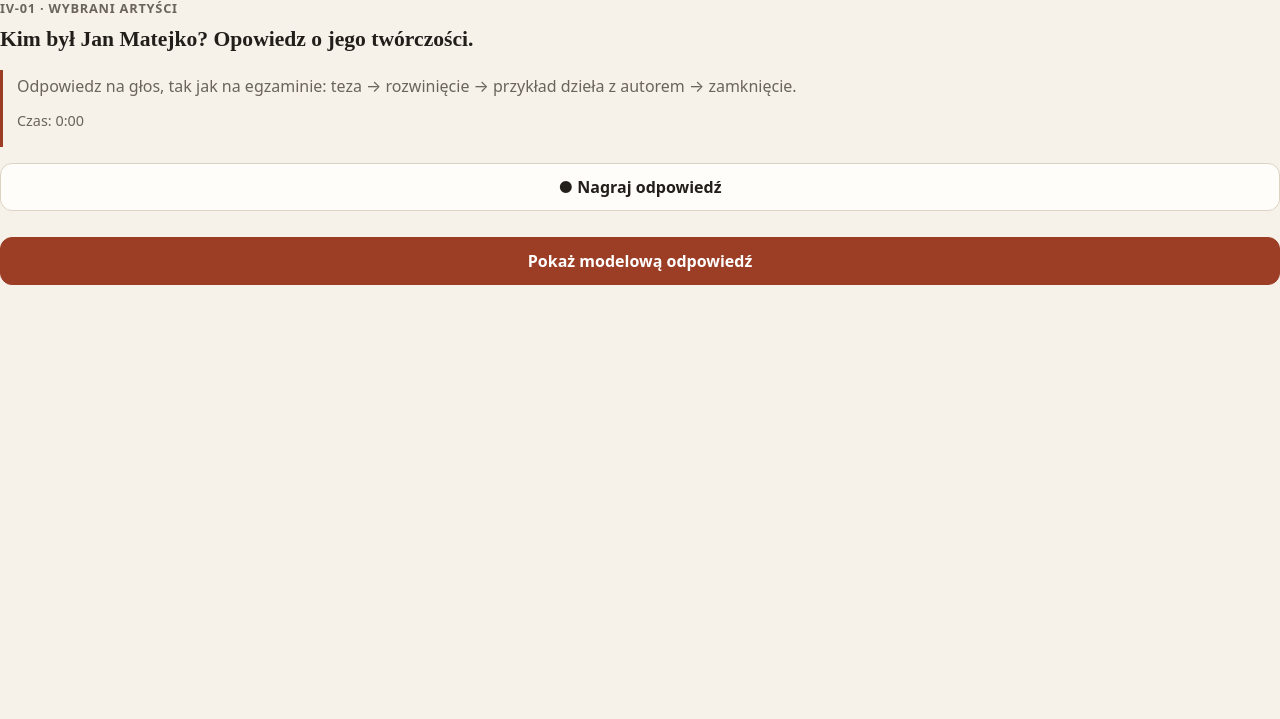
QuestionCard — aktywne przypominanie › po odsłonięciu: checklista podpowiada ocenę, a kliknięcie ją zapisuje
This screenshot has width=1280, height=719.
Later steps or results of the test are not shown.
Step 1. Click the button "Pokaż modelową odpowiedź" → click(640, 261), box [0, 237, 1279, 285]
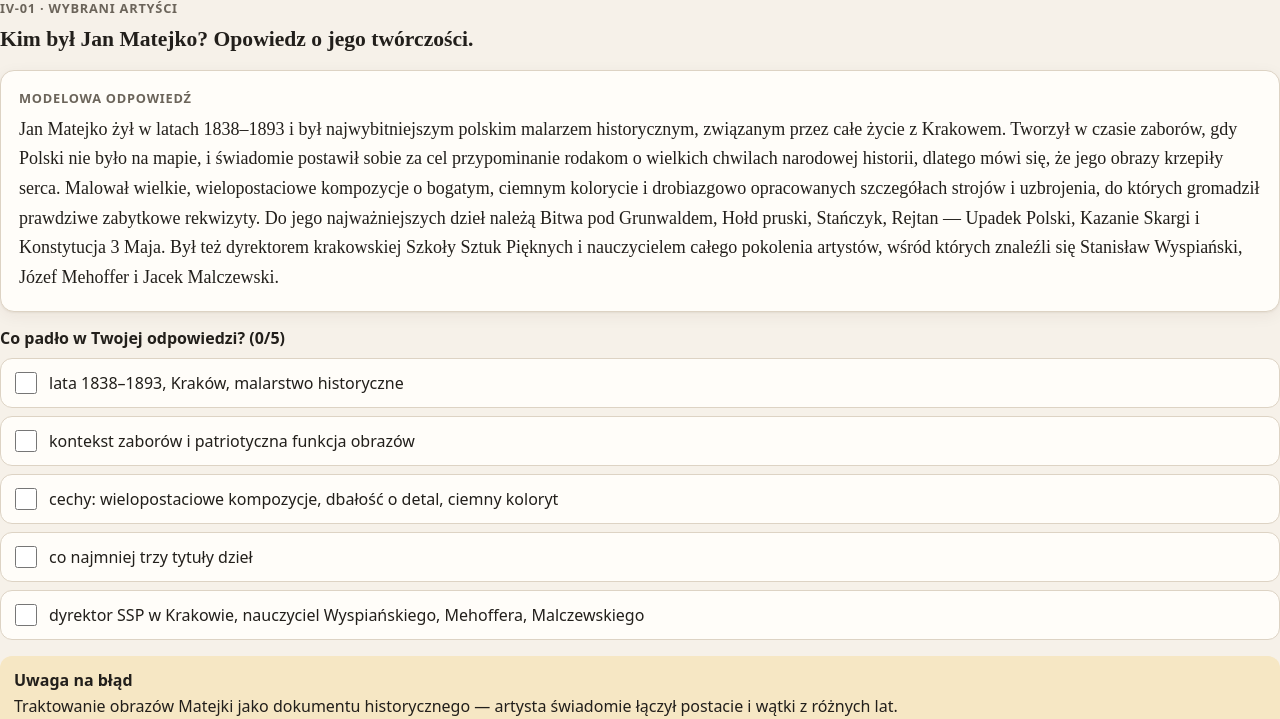
Now the text "Jan Matejko żył w latach 1838–1893 i był najwybitniejszym polskim malarzem historycznym, związanym przez całe życie z Kr" is shown, box [19, 119, 1260, 287]
Step 2. Click the text "lata 1838–1893, Kraków, malarstwo historyczne" → click(226, 383), box [49, 371, 404, 395]
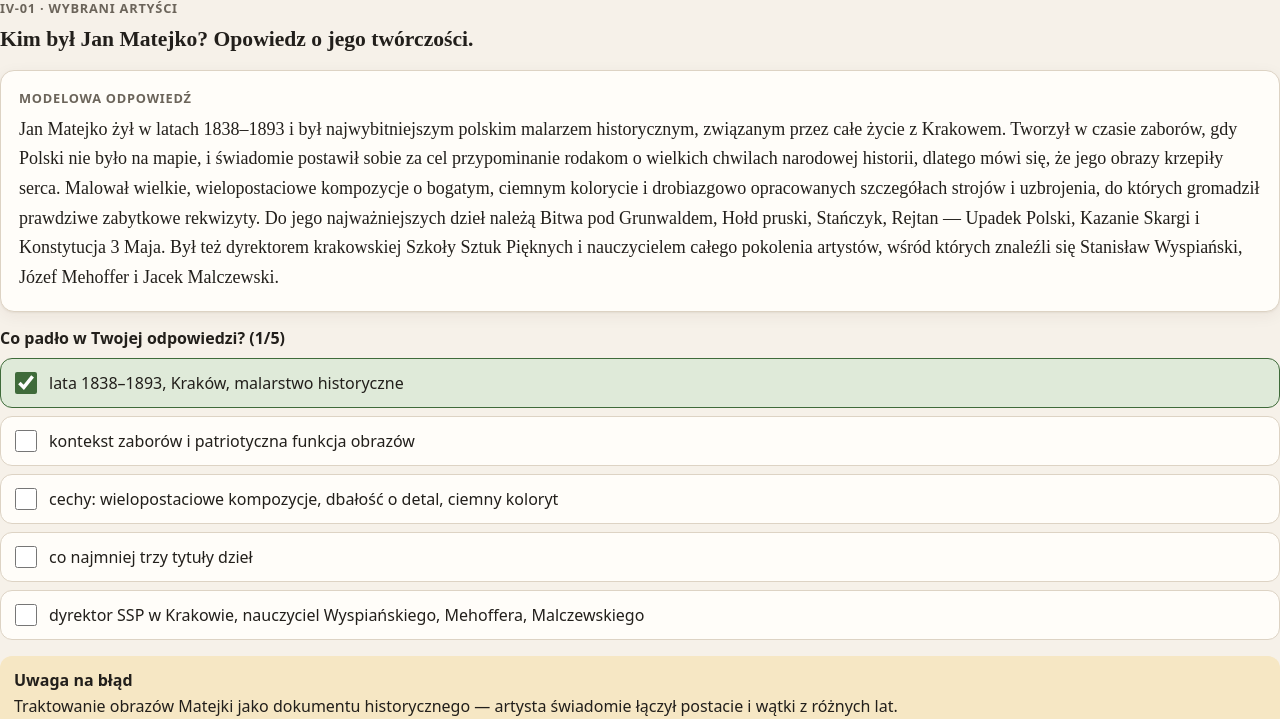
Step 3. Click the text "kontekst zaborów i patriotyczna funkcja obrazów" → click(232, 441), box [49, 429, 415, 453]
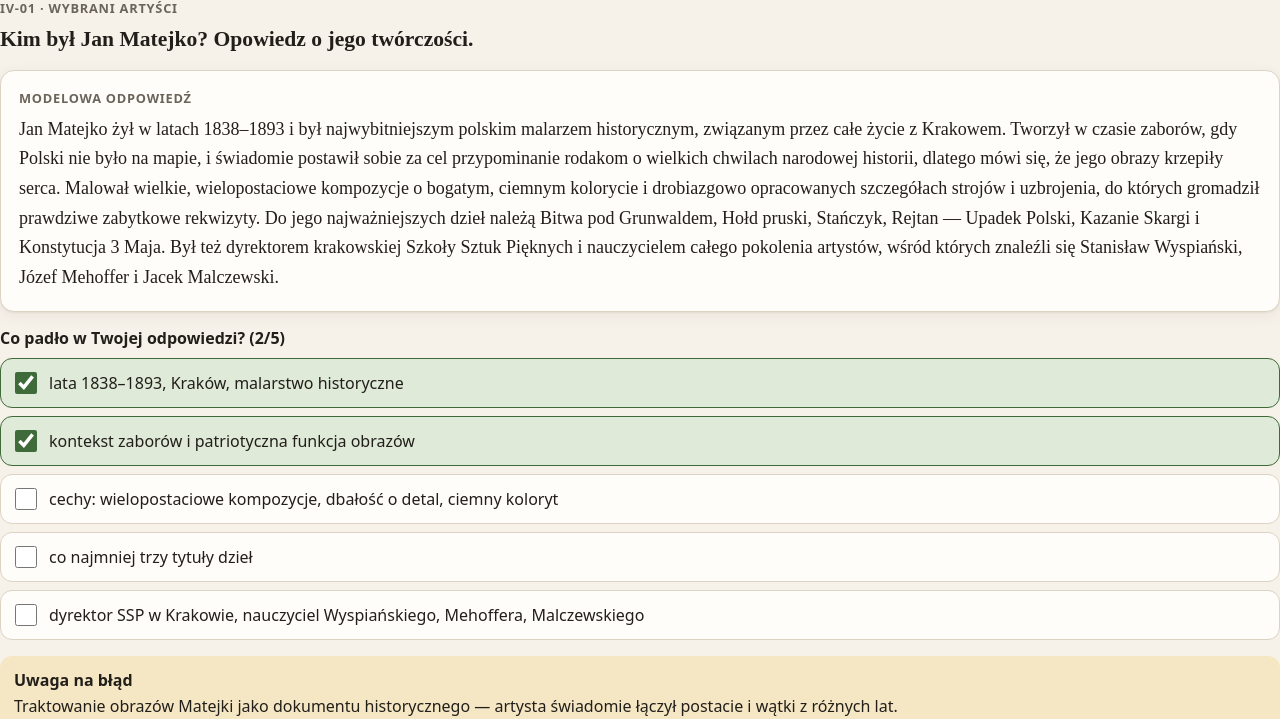
Step 4. Click the text "cechy: wielopostaciowe kompozycje, dbałość o detal, ciemny koloryt" → click(304, 499), box [49, 487, 558, 511]
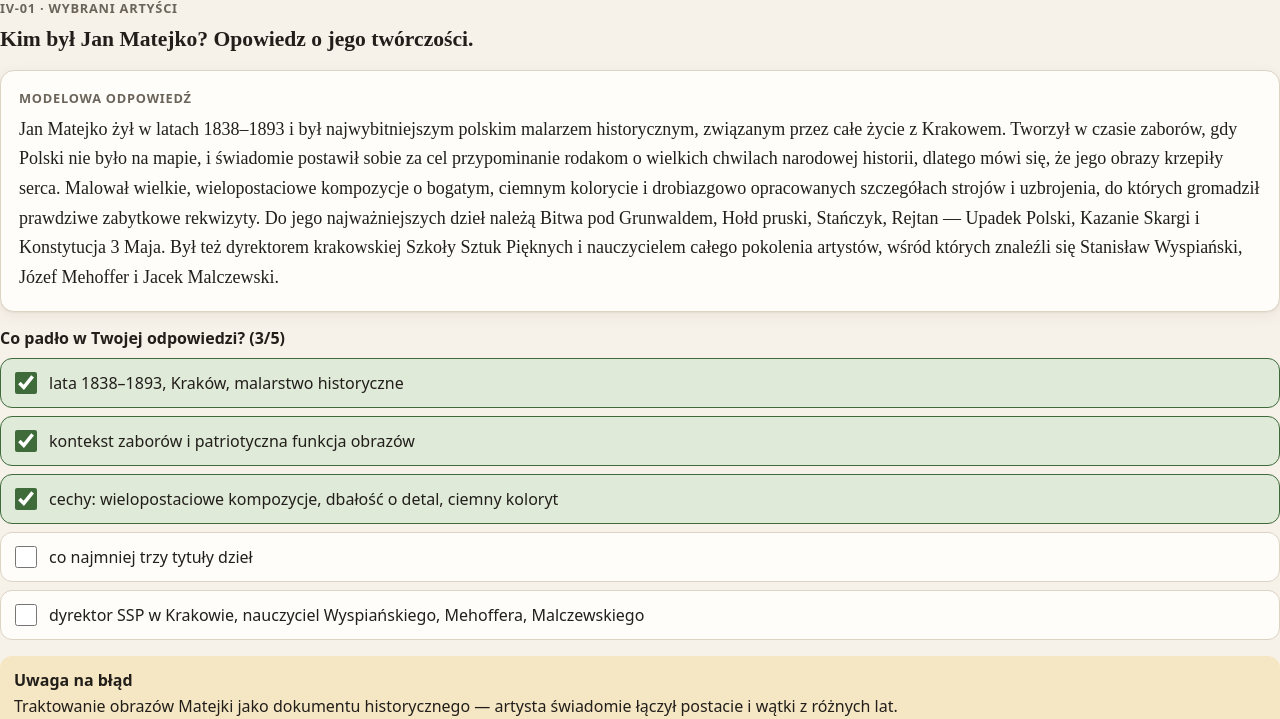
Step 5. Click the text "co najmniej trzy tytuły dzieł" → click(151, 557), box [49, 545, 253, 569]
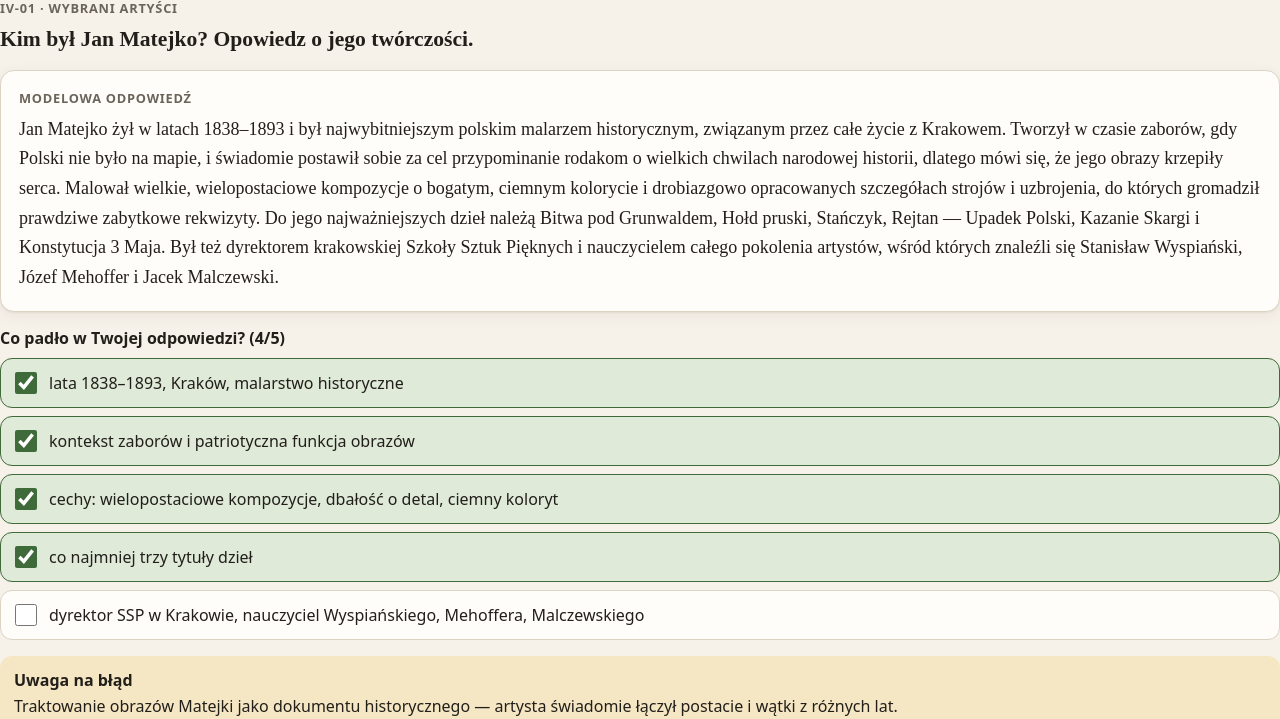
Step 6. Click the text "dyrektor SSP w Krakowie, nauczyciel Wyspiańskiego, Mehoffera, Malczewskiego" → click(347, 615), box [49, 603, 644, 627]
(page scrolled)
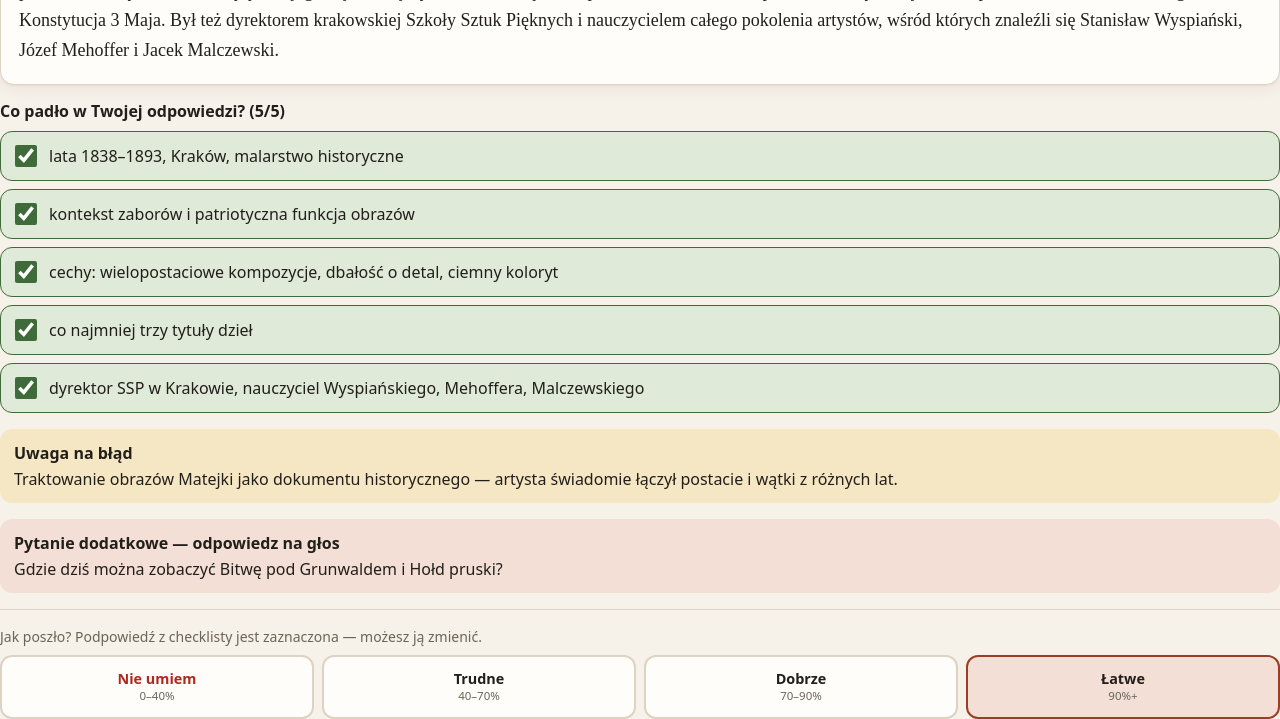
Now the button with class "suggested" shows "Łatwe", box [966, 655, 1279, 718]
